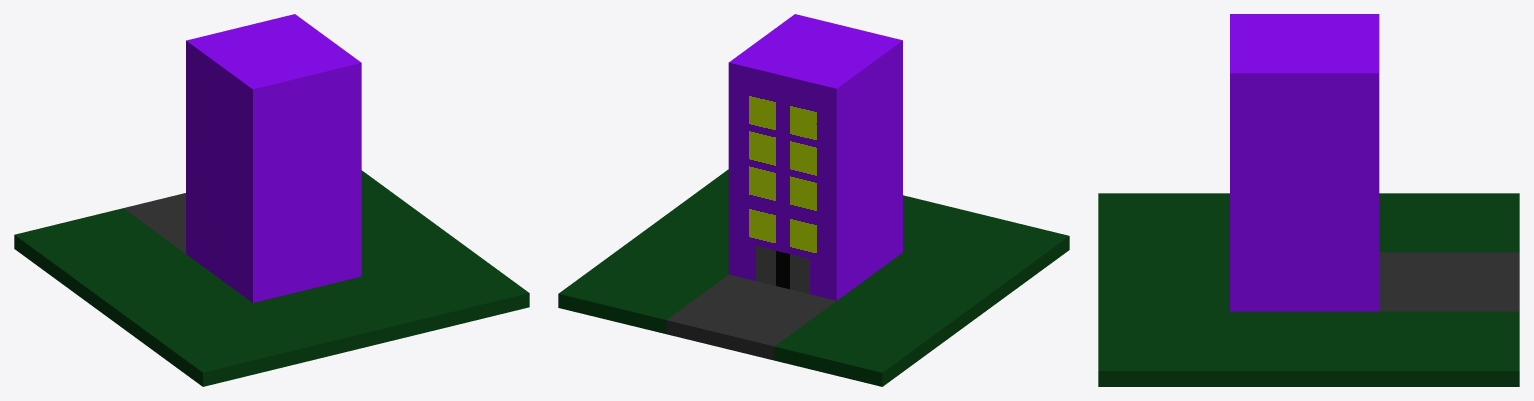
The model's file is skyscraper.gltf.
3 renders of one model, left to right at view 1: azimuth 30°, elevation 25°; view 2: azimuth 150°, elevation 25°; view 3: azimuth 270°, elevation 25°, orthographic. The views are drawn at different scales.
Visible parts, largest first — view 1: cube (×5); view 2: cube (×5); view 3: cube (×5).
Boxes of the visible parts, x1,y1,x2,y2 form: cube (×5): (14, 14, 529, 386); cube (×5): (558, 14, 1069, 386); cube (×5): (1098, 14, 1519, 386).
Size of the model in its own units: 3 by 2 by 3.
Materials: 5 (5 with a texture image).
